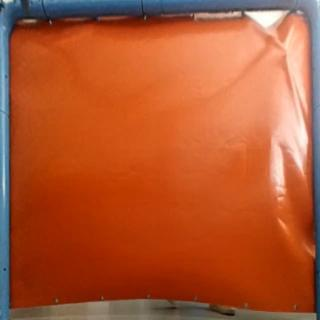Hit-hRxx: (276, 43, 294, 57)
